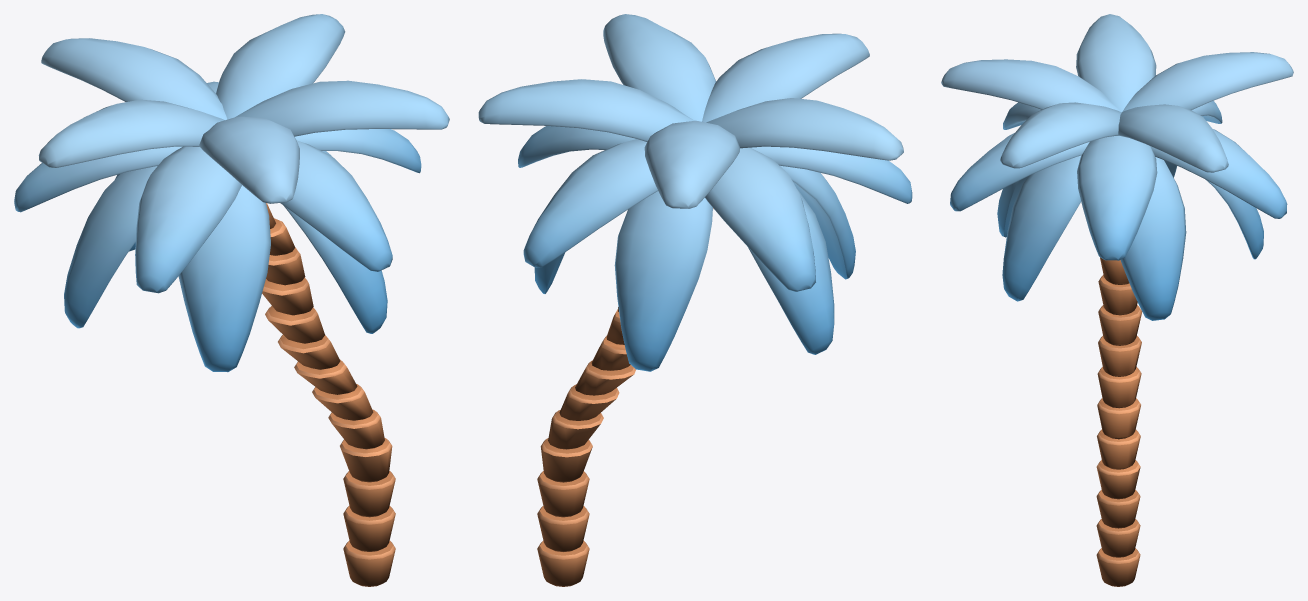
The model's file is lpb_tree_1_d.fbx.
3 views of the same model, side by side, from view 1: azimuth 30°, elevation 25°; view 2: azimuth 150°, elevation 25°; view 3: azimuth 270°, elevation 25° (orthographic). The views are drawn at different scales.
Parts seen in each view (by area): view 1: ap_tree_1.003; view 2: ap_tree_1.003; view 3: ap_tree_1.003.
Boxes of the visible parts, bbox=[...] form: ap_tree_1.003: bbox=[14, 14, 449, 586]; ap_tree_1.003: bbox=[478, 14, 912, 586]; ap_tree_1.003: bbox=[941, 14, 1293, 586].
Bounding box in the file's own units: 404 × 545 × 390.
